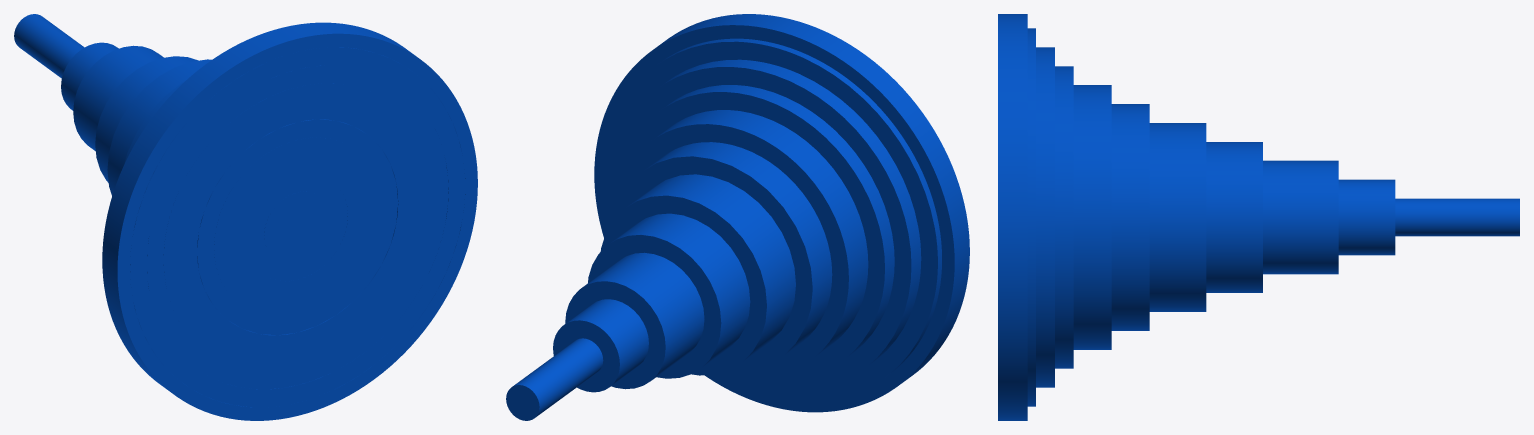
The model's file is cortezas acumulado.FBX.
3 renders of one model, left to right at view 1: azimuth 30°, elevation 25°; view 2: azimuth 150°, elevation 25°; view 3: azimuth 270°, elevation 25°, orthographic. The views are drawn at different scales.
Visible parts, largest first — view 1: polySurface34, polySurface33, polySurface26, polySurface32, polySurface31, polySurface30, polySurface25, polySurface29, polySurface24, polySurface28, polySurface27; view 2: polySurface34, polySurface26, polySurface33, polySurface31, polySurface32, polySurface30, polySurface25, polySurface29, polySurface24, polySurface28, polySurface27; view 3: polySurface34, polySurface30, polySurface31, polySurface25, polySurface24, polySurface29, polySurface26, polySurface32, polySurface27, polySurface28, polySurface33.
Boxes of the visible parts, x1,y1,x2,y2 form: polySurface34: [102, 22, 477, 420]; polySurface33: [130, 47, 465, 407]; polySurface26: [147, 65, 448, 389]; polySurface32: [163, 83, 431, 371]; polySurface31: [180, 101, 414, 353]; polySurface30: [107, 59, 381, 317]; polySurface25: [124, 81, 398, 335]; polySurface29: [95, 56, 364, 299]; polySurface24: [73, 45, 347, 281]; polySurface28: [61, 42, 331, 263]; polySurface27: [14, 14, 314, 245]; polySurface34: [594, 14, 969, 412]; polySurface26: [609, 59, 921, 390]; polySurface33: [602, 38, 941, 401]; polySurface31: [614, 110, 868, 375]; polySurface32: [617, 85, 894, 379]; polySurface30: [600, 174, 795, 375]; polySurface25: [613, 142, 832, 372]; polySurface29: [588, 213, 750, 378]; polySurface24: [565, 252, 704, 389]; polySurface28: [553, 299, 648, 392]; polySurface27: [506, 338, 603, 420]; polySurface34: [998, 14, 1027, 420]; polySurface30: [1149, 123, 1206, 311]; polySurface31: [1073, 85, 1111, 349]; polySurface25: [1111, 104, 1149, 330]; polySurface24: [1263, 160, 1338, 274]; polySurface29: [1206, 142, 1262, 292]; polySurface26: [1036, 47, 1054, 387]; polySurface32: [1055, 66, 1073, 368]; polySurface27: [1395, 198, 1519, 236]; polySurface28: [1338, 179, 1395, 255]; polySurface33: [1027, 28, 1035, 406].
Bounding box in the file's own units: 21.55 × 21.55 × 27.64.
